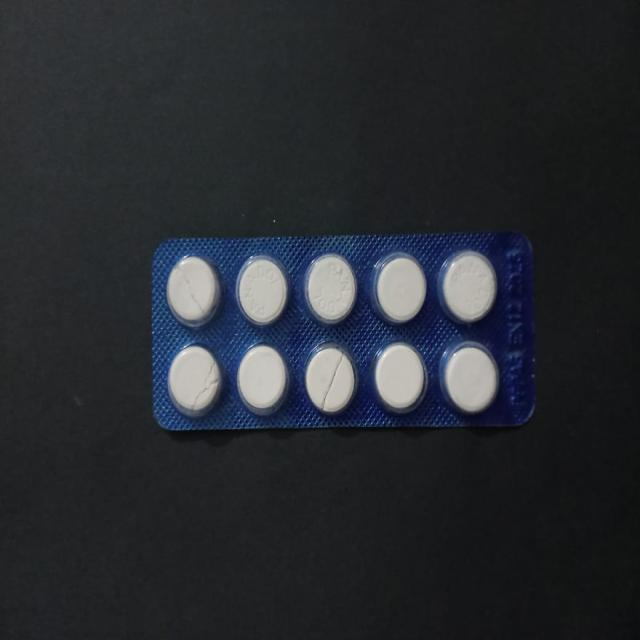defect: (301, 334, 361, 420), (163, 251, 224, 333), (165, 340, 226, 420)
